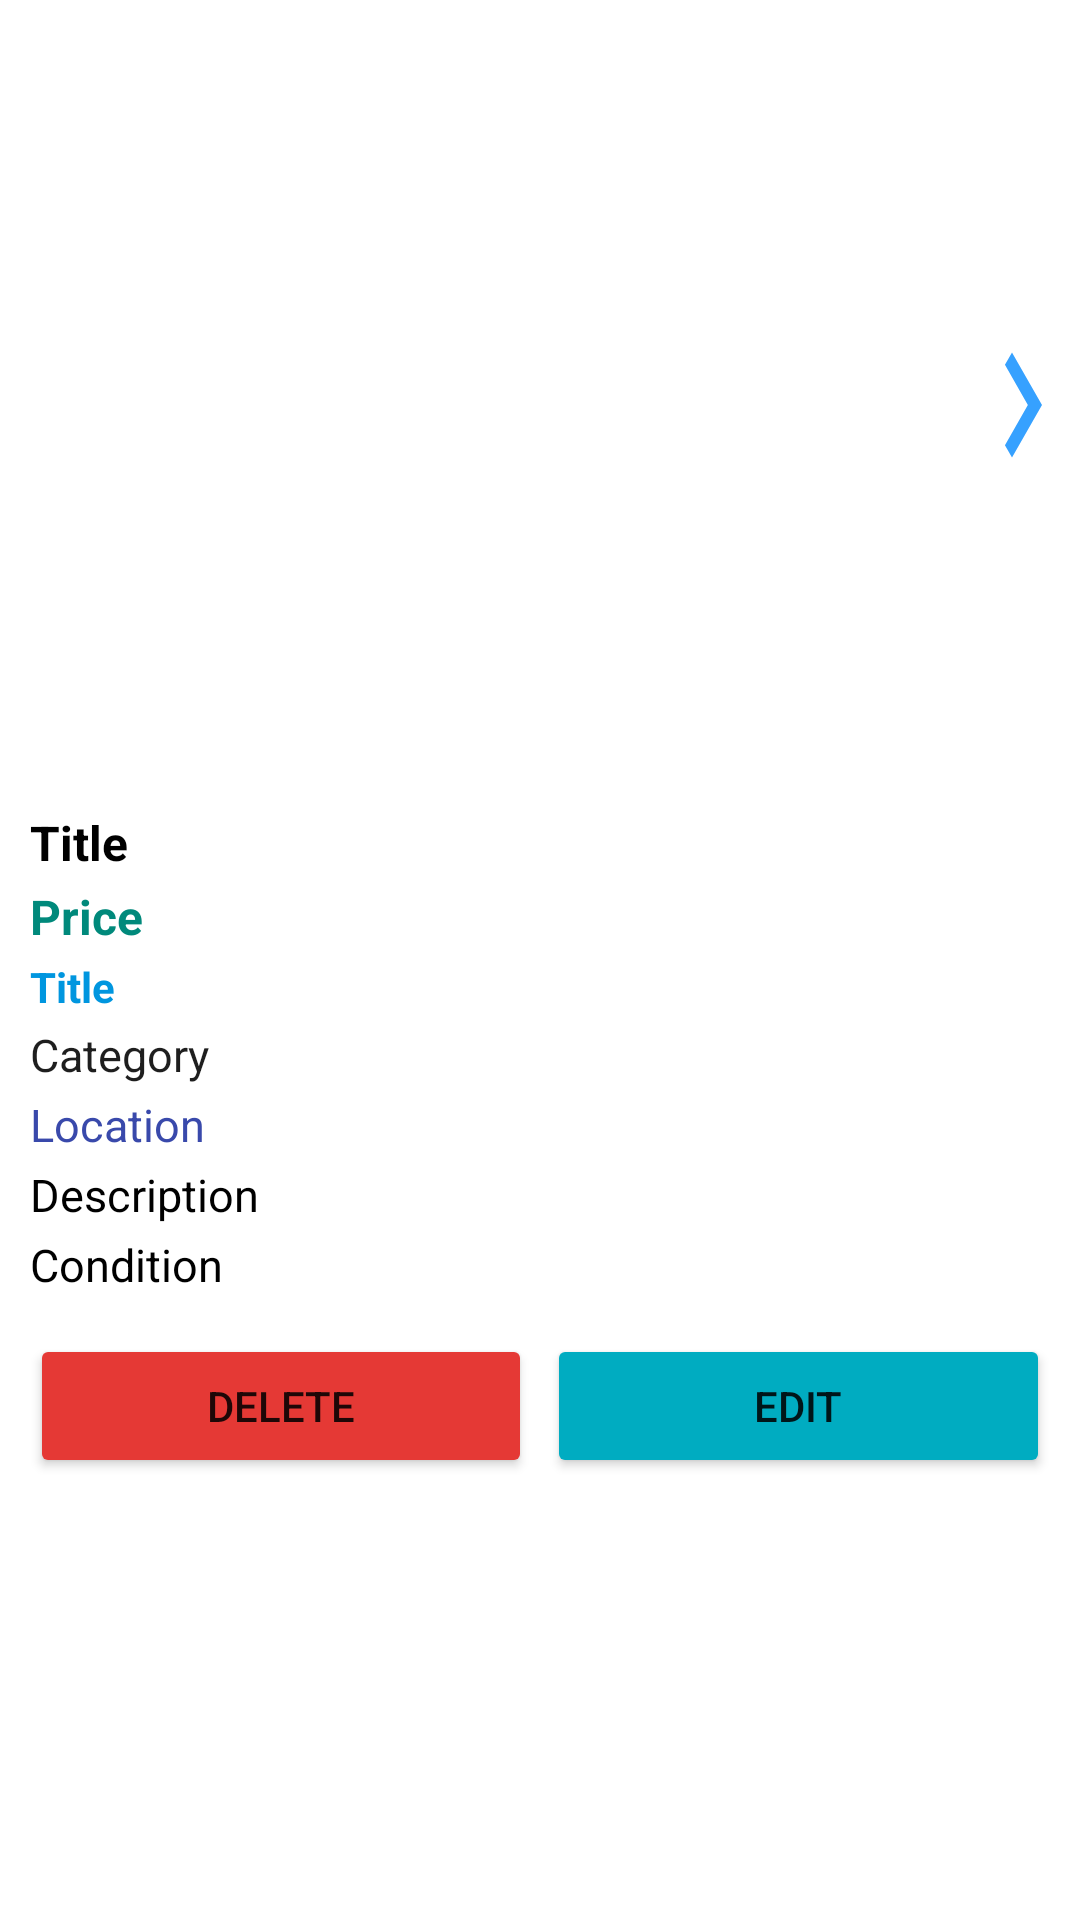

Icon click points for this 1080px×1920px phone screenshot, format [x,y]:
chevron right: [1023,405]
